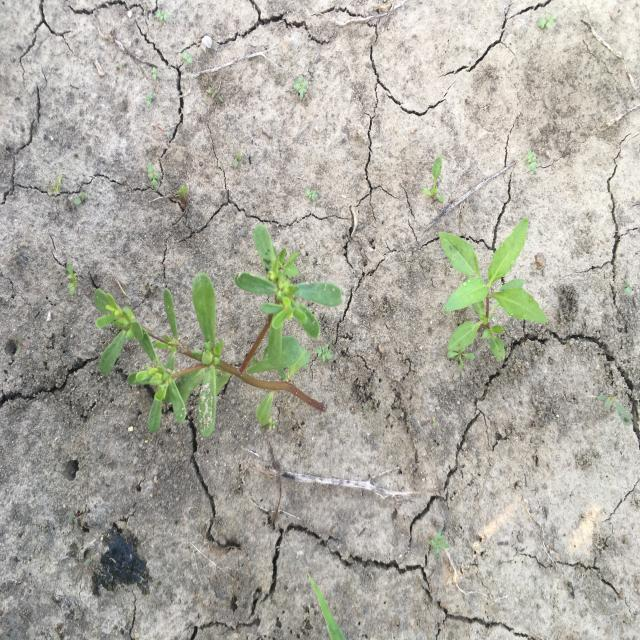Eclipta: (436, 217, 549, 363)
Purslane: (92, 222, 344, 438)
